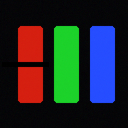3 line_h: (2, 62, 48, 66)
